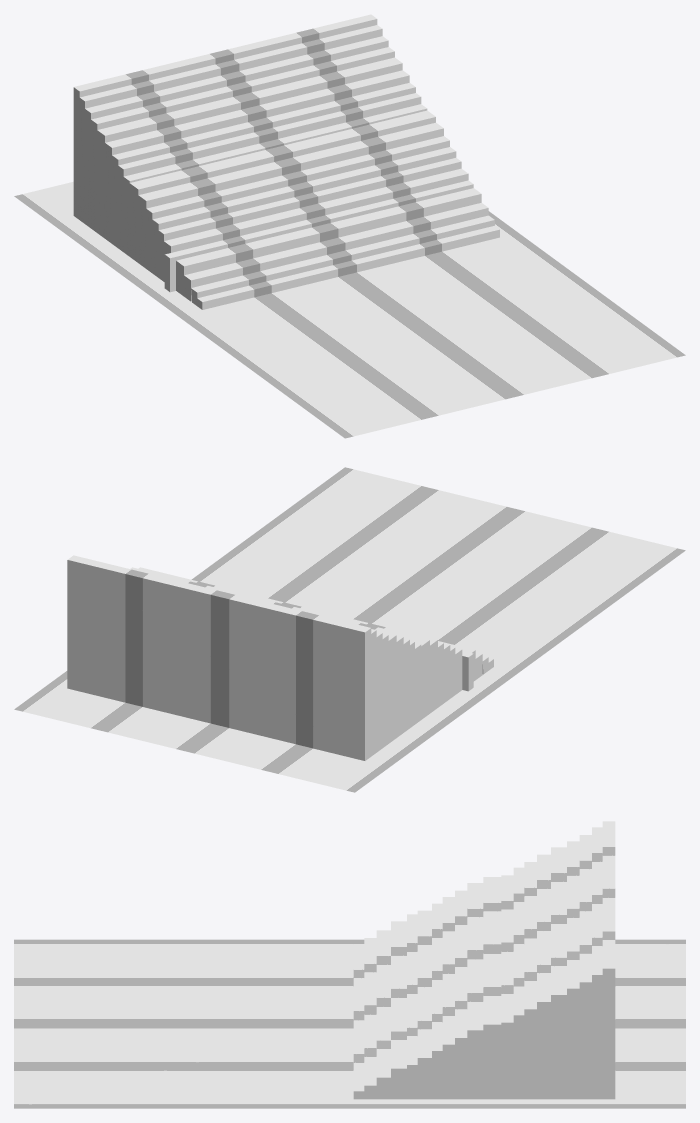
File: Fanta_Stair_Low_20_5.fbx
3 views of the same model, one above another, from view 1: azimuth 30°, elevation 25°; view 2: azimuth 150°, elevation 25°; view 3: azimuth 270°, elevation 25° (orthographic).
Parts seen in each view (by area): view 1: pCube21; view 2: pCube21; view 3: pCube21.
Boxes of the visible parts, x1,y1,x2,y2 form: pCube21: (14,14,685,438); pCube21: (14,467,685,792); pCube21: (14,821,685,1108).
Bounding box in the file's own units: 1122 × 430 × 1888.
Materials: 1 (1 with a texture image).
